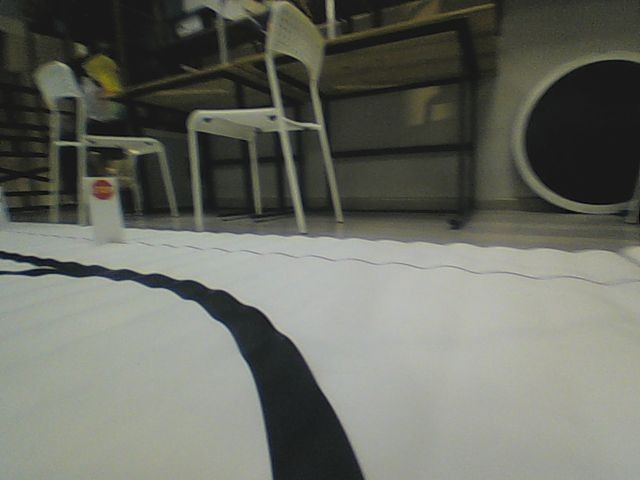Stop: (90, 179, 114, 201)
